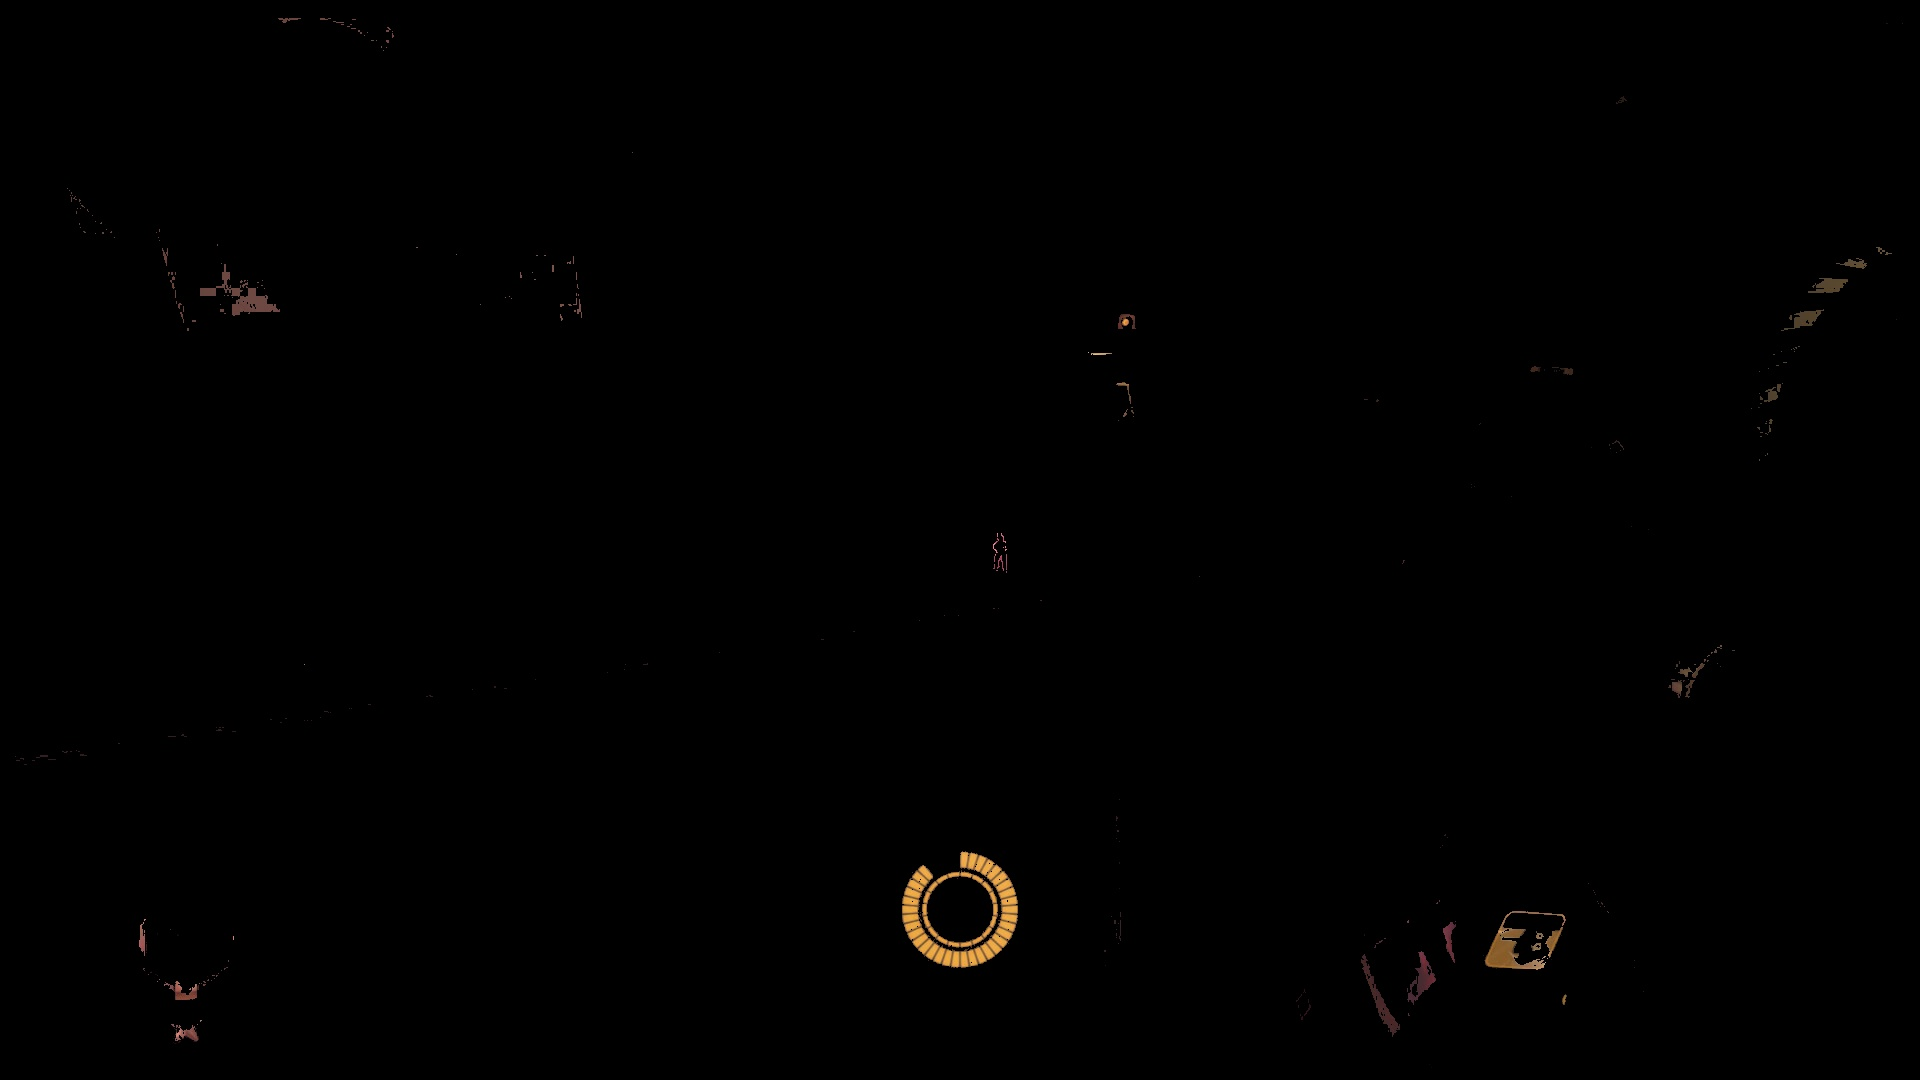widowmaker: (993, 531, 1009, 574)
